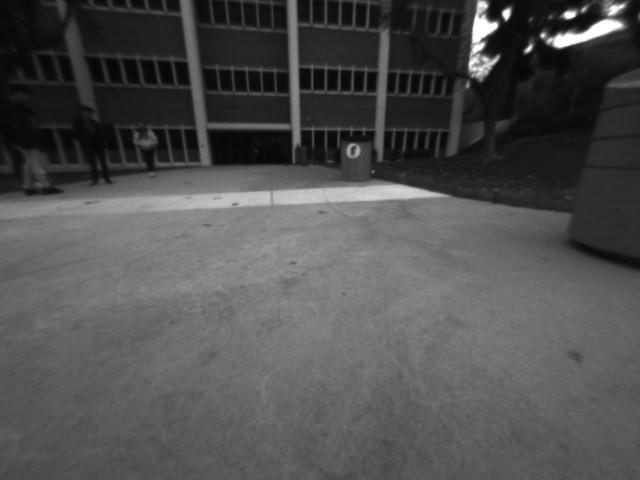trashcan: (341, 136, 373, 187)
